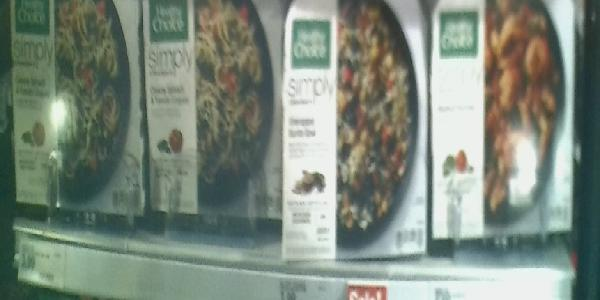pizza1: (282, 1, 430, 270), (431, 1, 576, 254), (8, 1, 149, 225), (145, 1, 283, 228)
